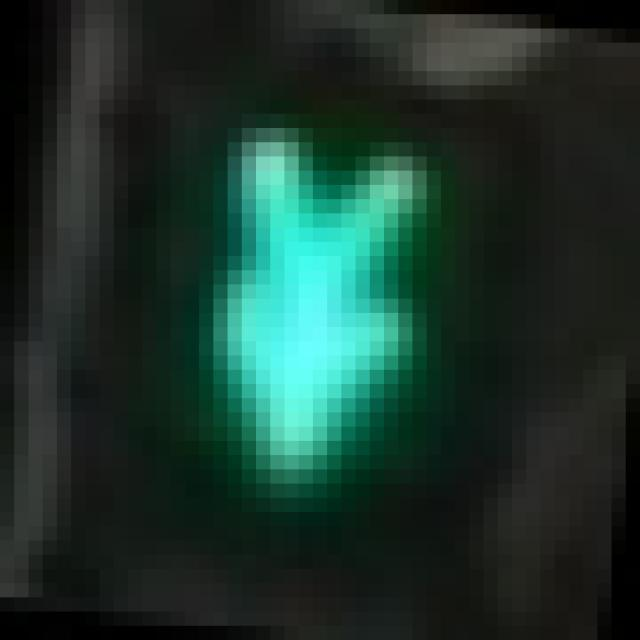geen-crossing: (100, 56, 498, 526)
